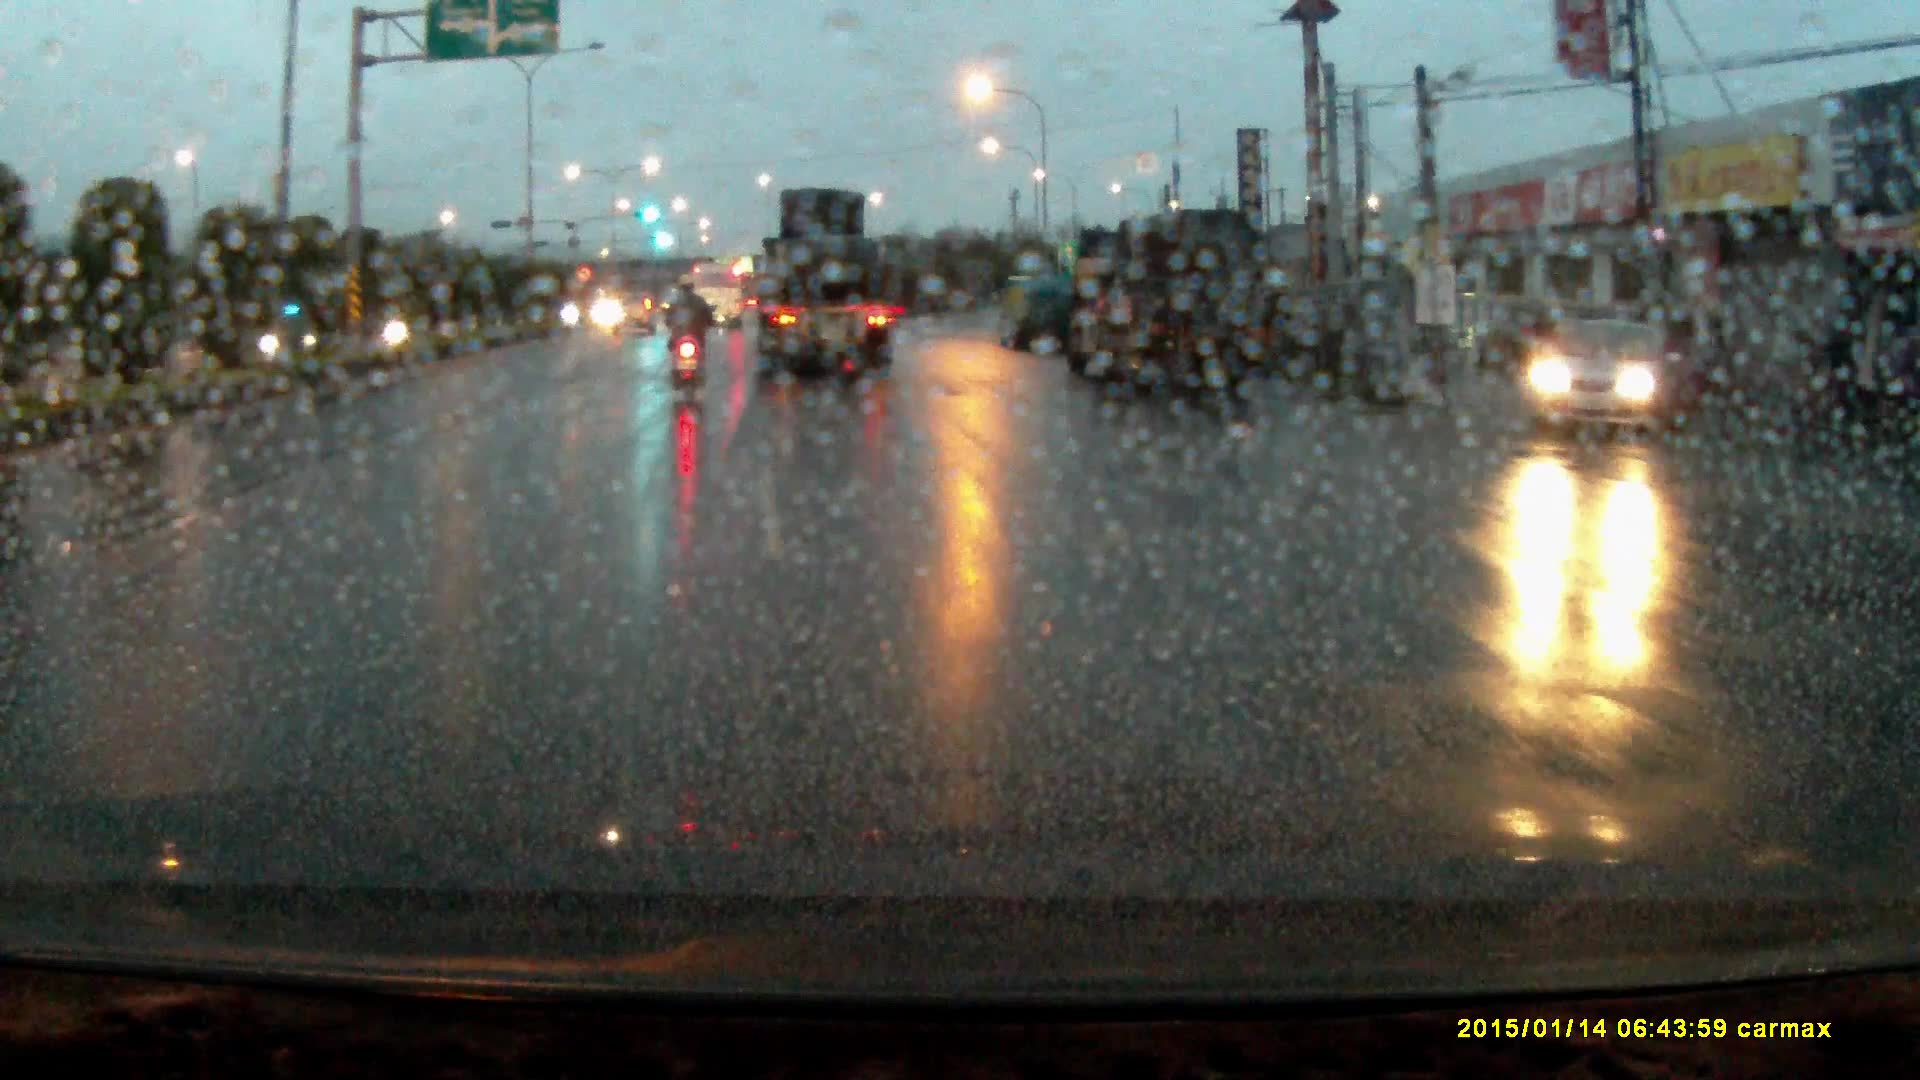rider: (661, 271, 718, 406)
vehicle: (1068, 202, 1274, 406), (756, 191, 895, 383), (1521, 310, 1711, 441), (1000, 273, 1081, 353), (694, 263, 742, 327), (604, 288, 656, 336)
